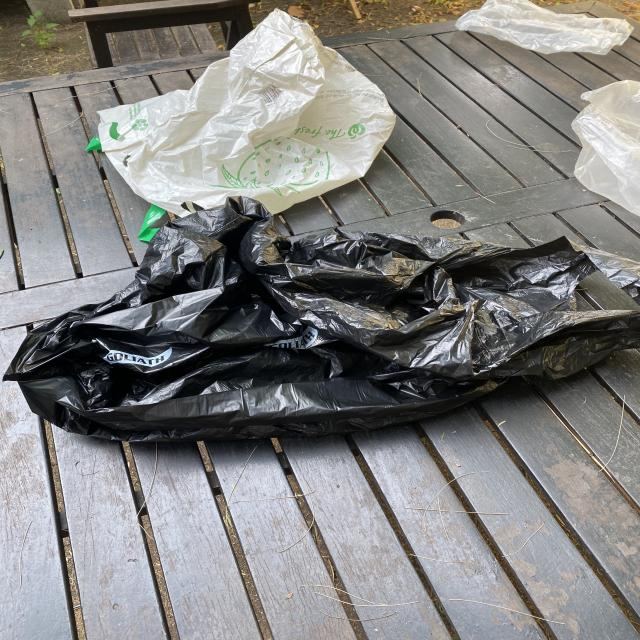cloth: (4, 196, 635, 474), (81, 6, 402, 243), (453, 0, 639, 59), (567, 74, 640, 220)
